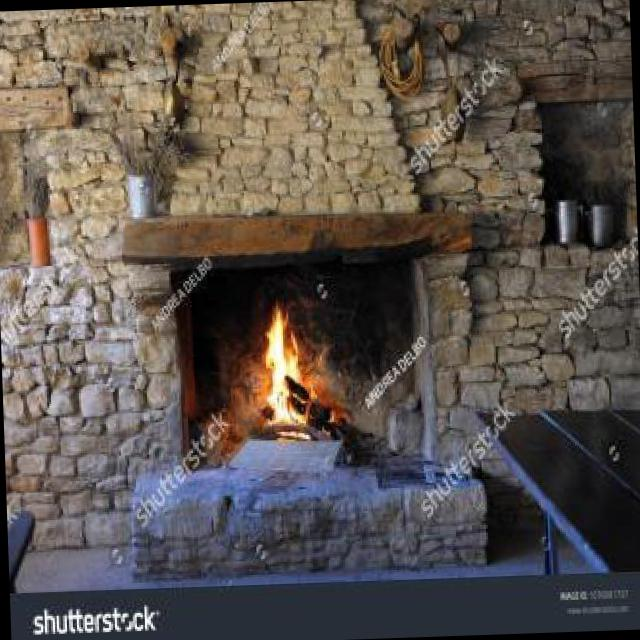Fire: (257, 296, 324, 442)
